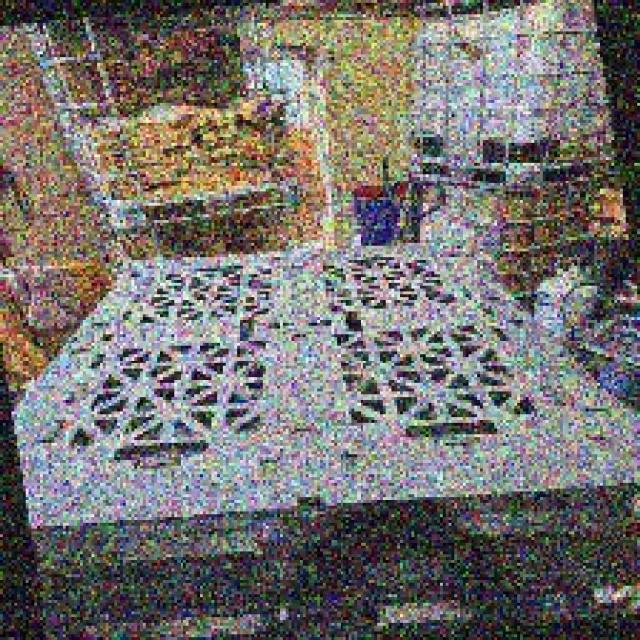igps: (5, 235, 640, 595), (30, 506, 640, 636), (30, 563, 640, 640)
